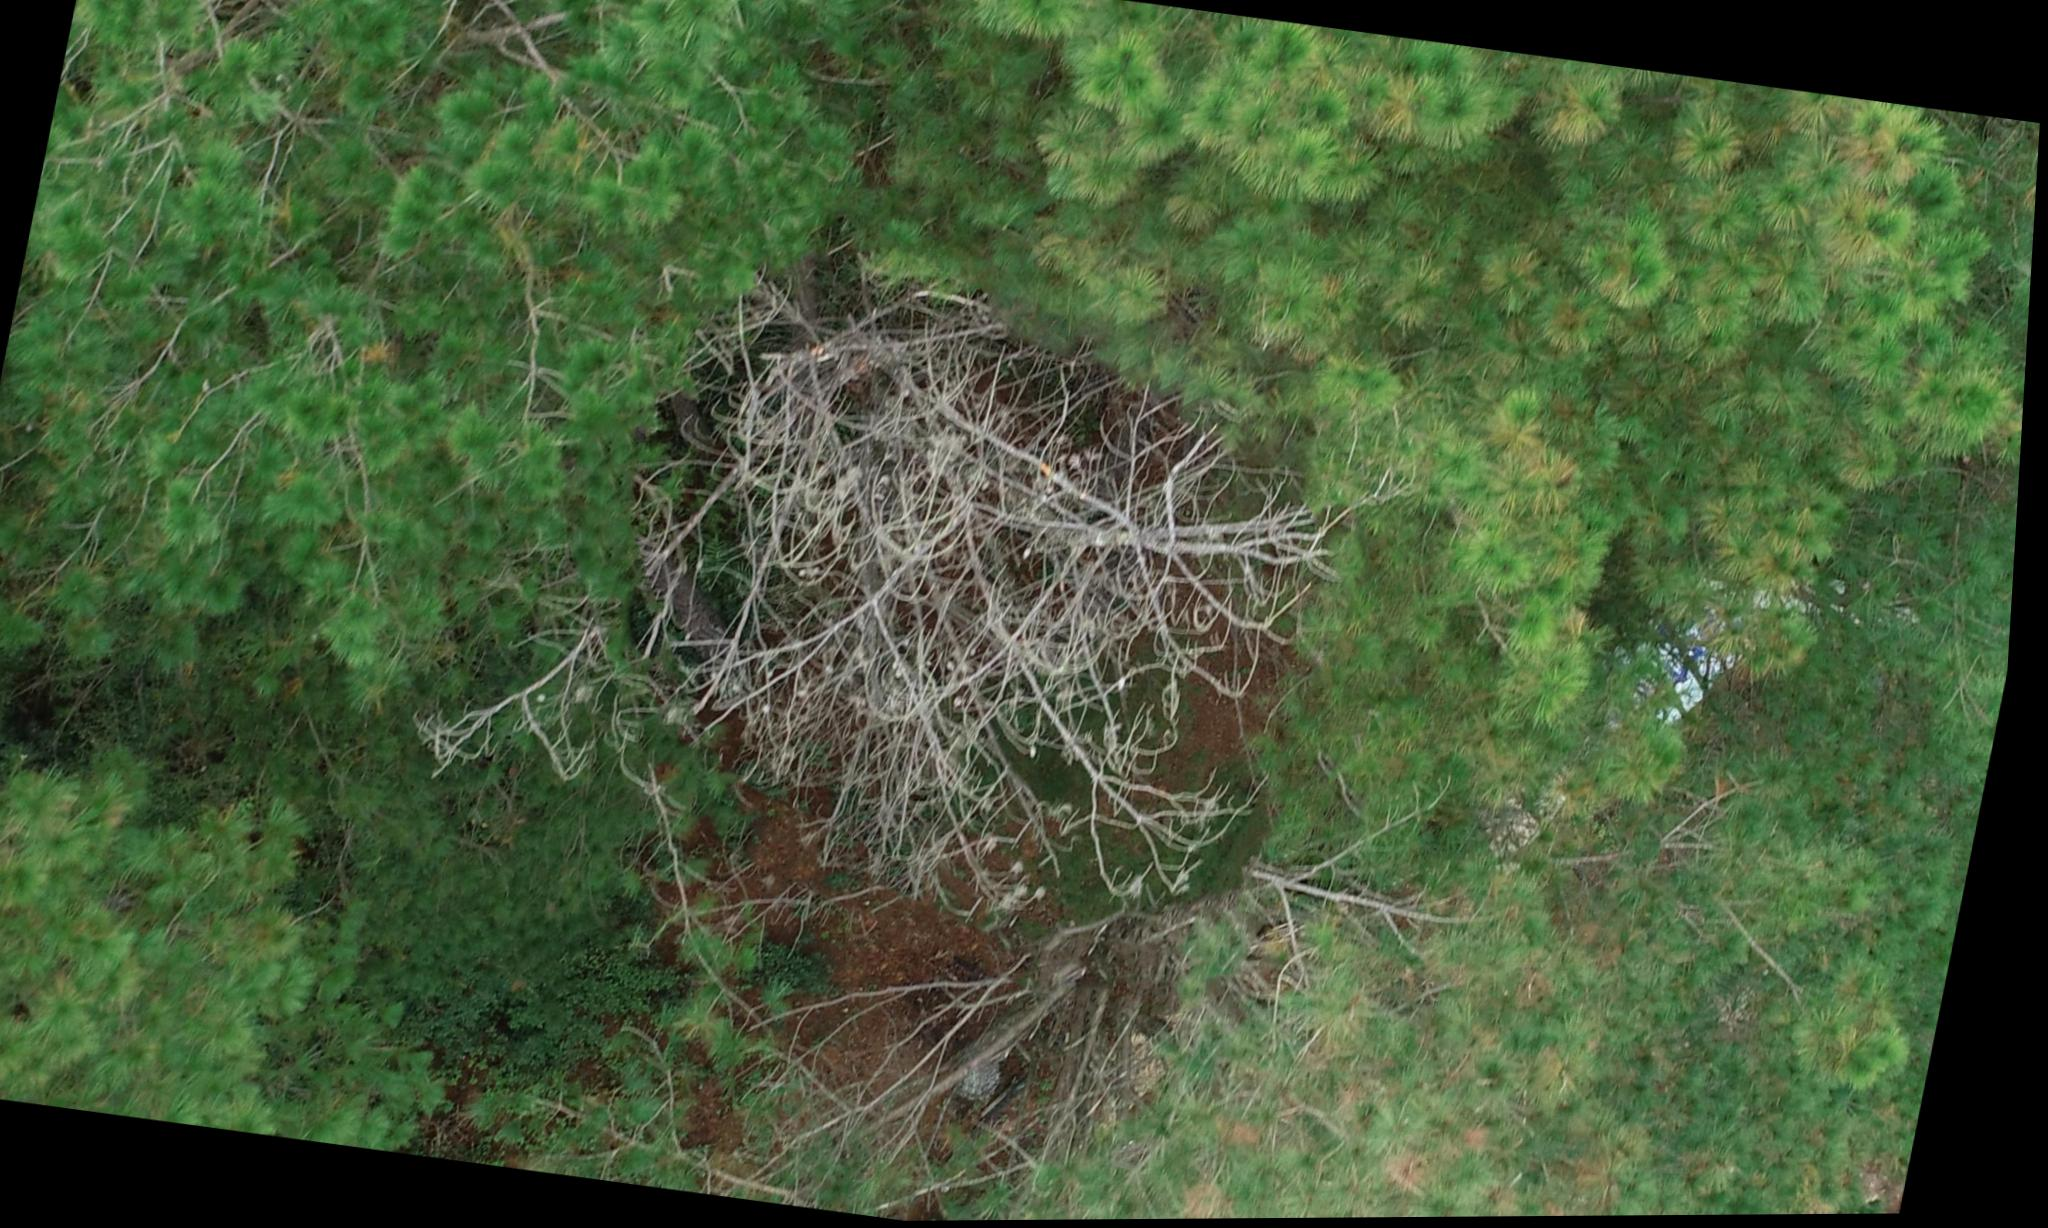dead: (580, 238, 1392, 984)
light: (1378, 50, 2045, 390), (1091, 988, 1669, 1221)
